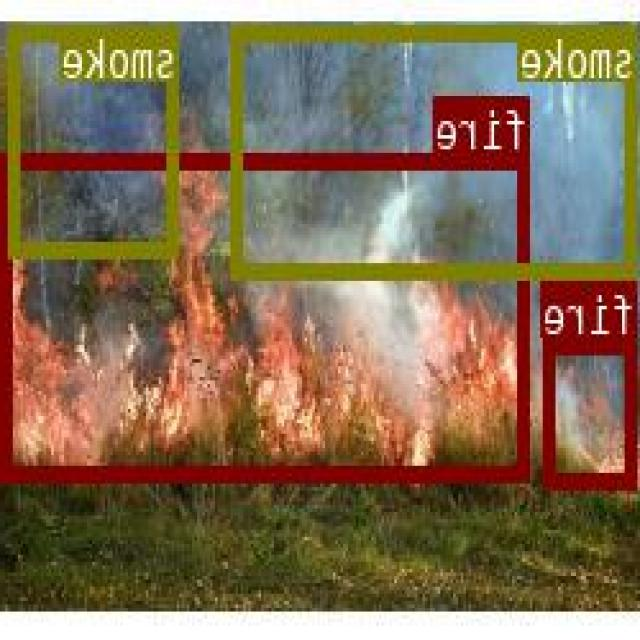fire: (5, 150, 532, 477), (547, 336, 640, 486)
smoke: (234, 24, 640, 274), (11, 24, 180, 252)
